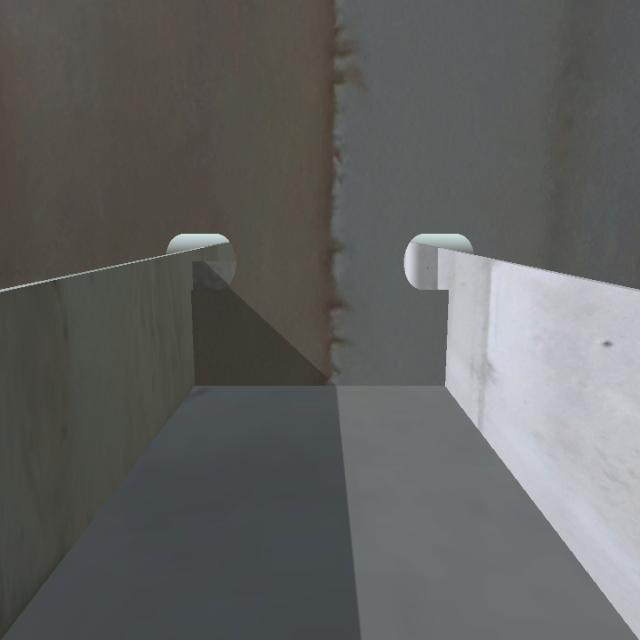fillet_yong_jeop_jang: (192, 380, 448, 394)
longi_yong_jeop_jang: (187, 258, 204, 389), (436, 286, 455, 392), (193, 259, 239, 294)
